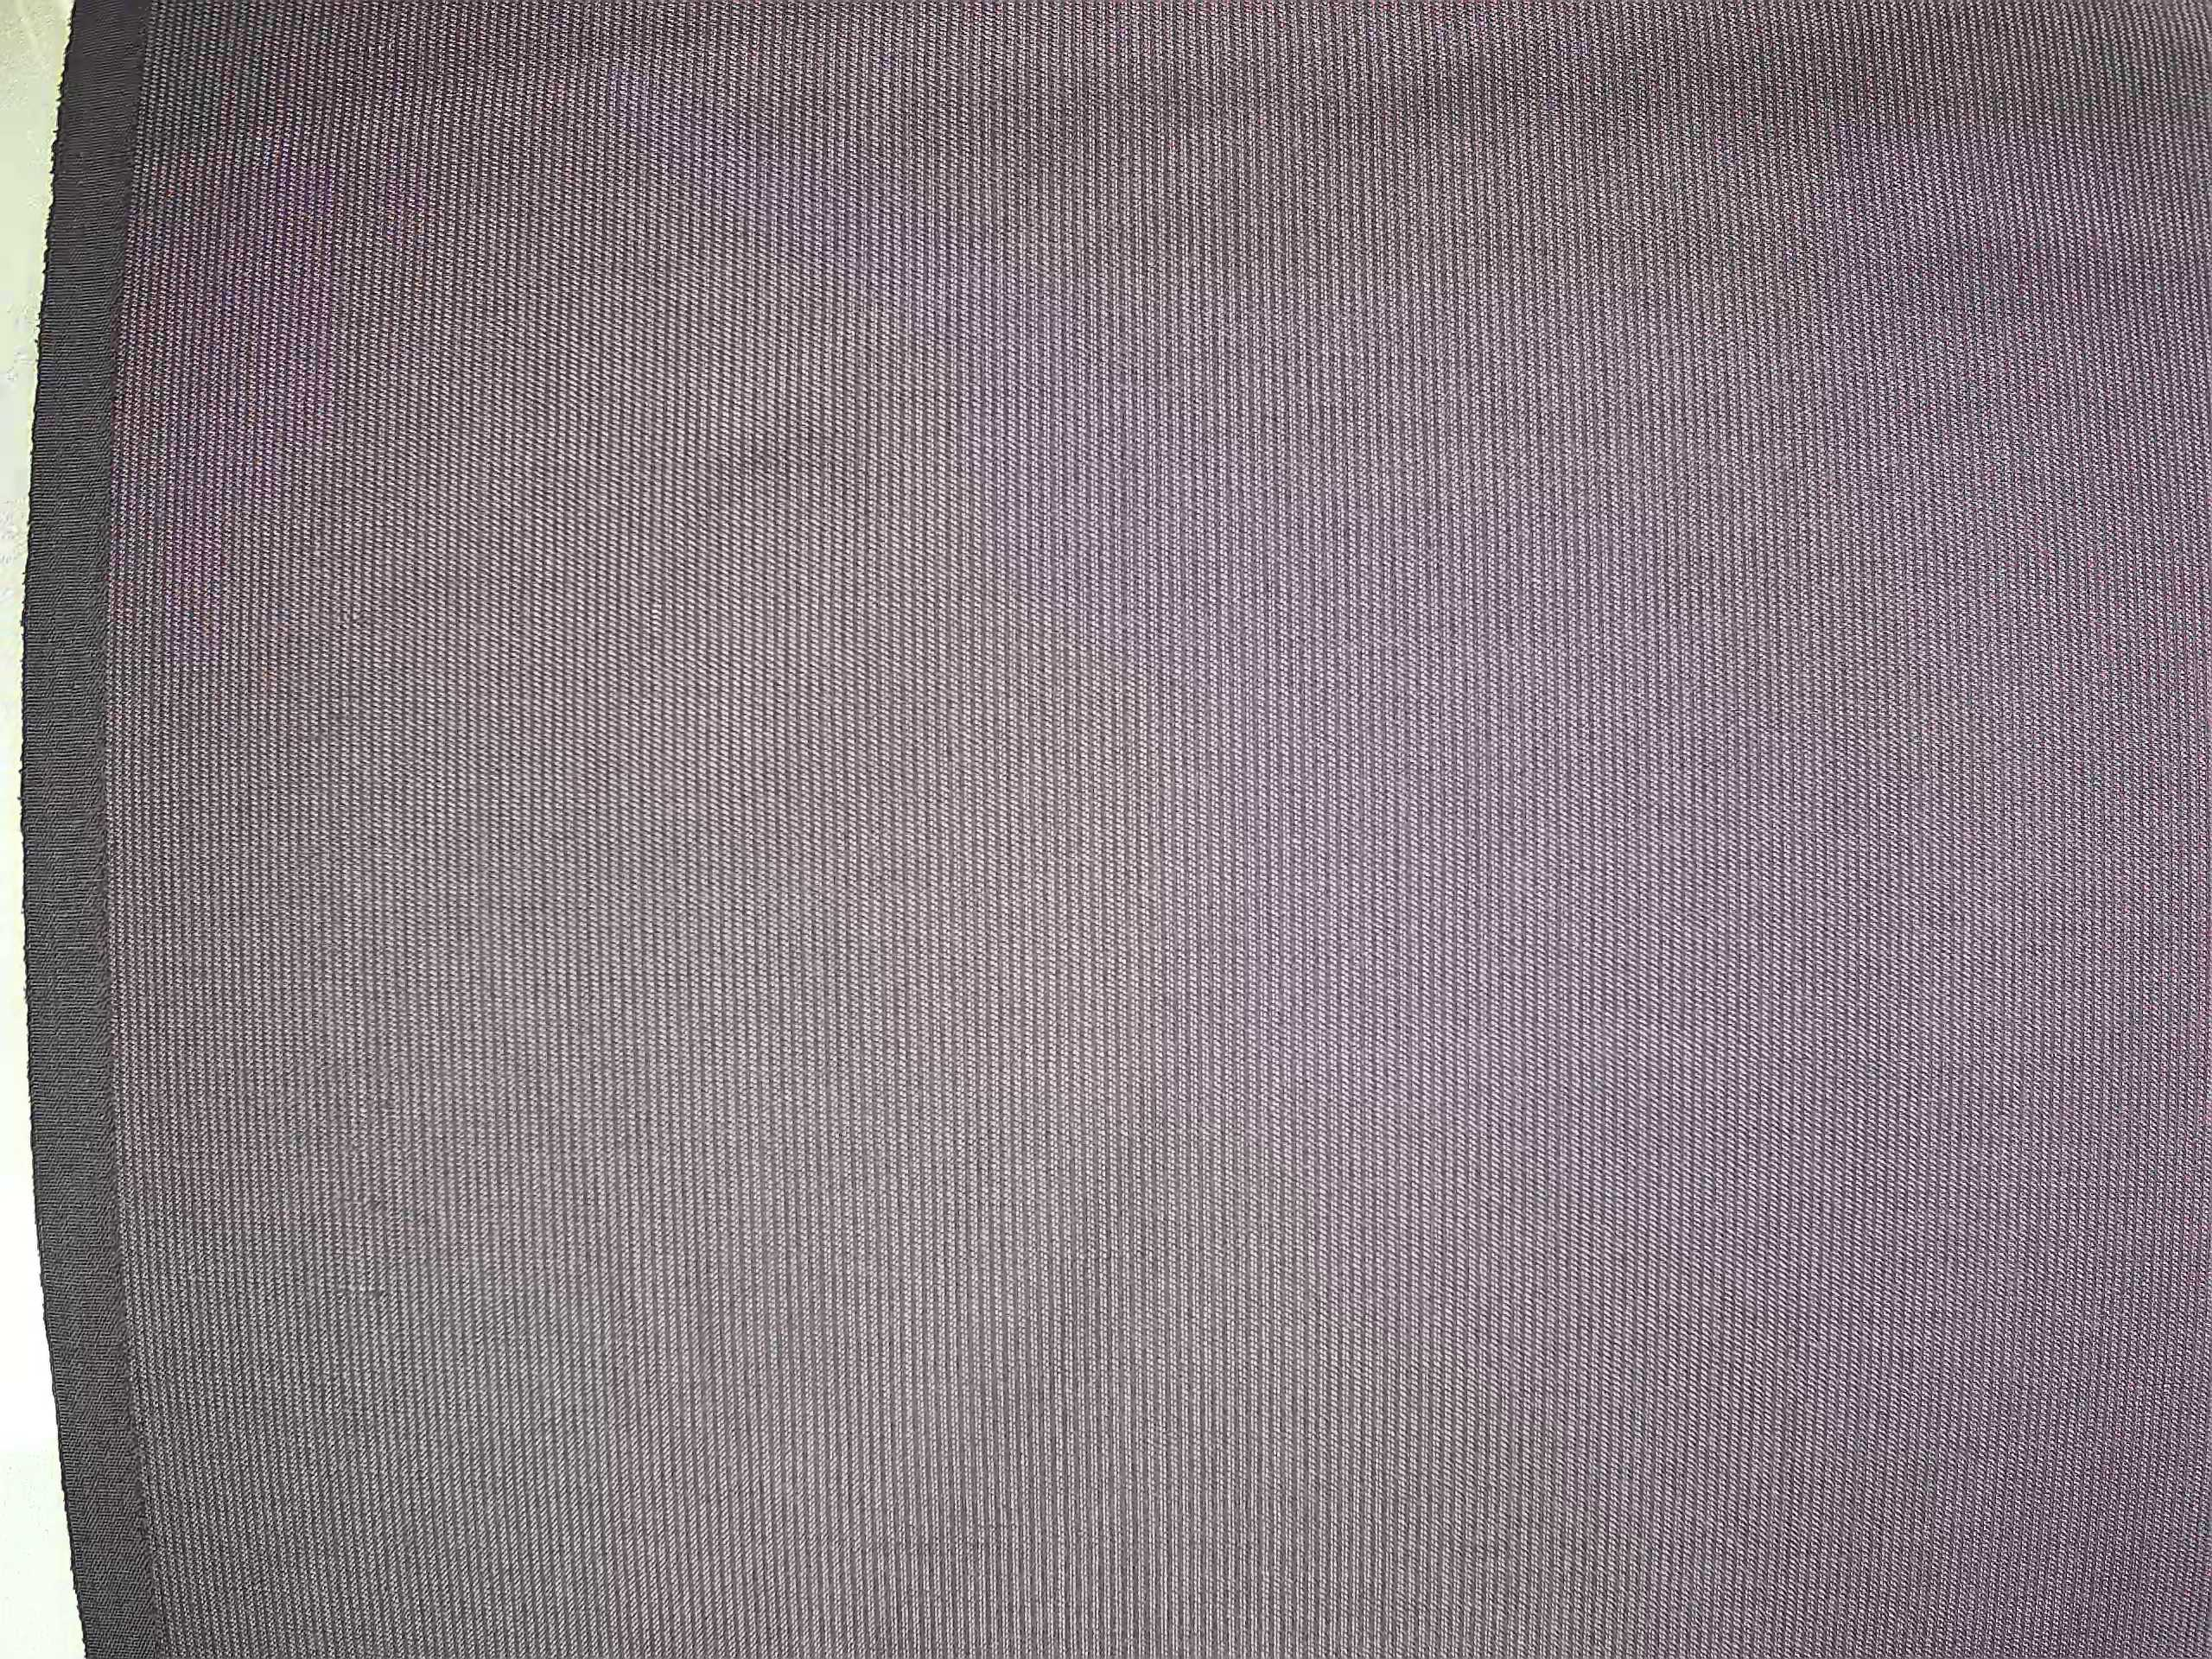jumps: (320, 1269, 401, 1314), (326, 1183, 416, 1223), (284, 713, 348, 753), (308, 603, 376, 633), (286, 533, 338, 565)
